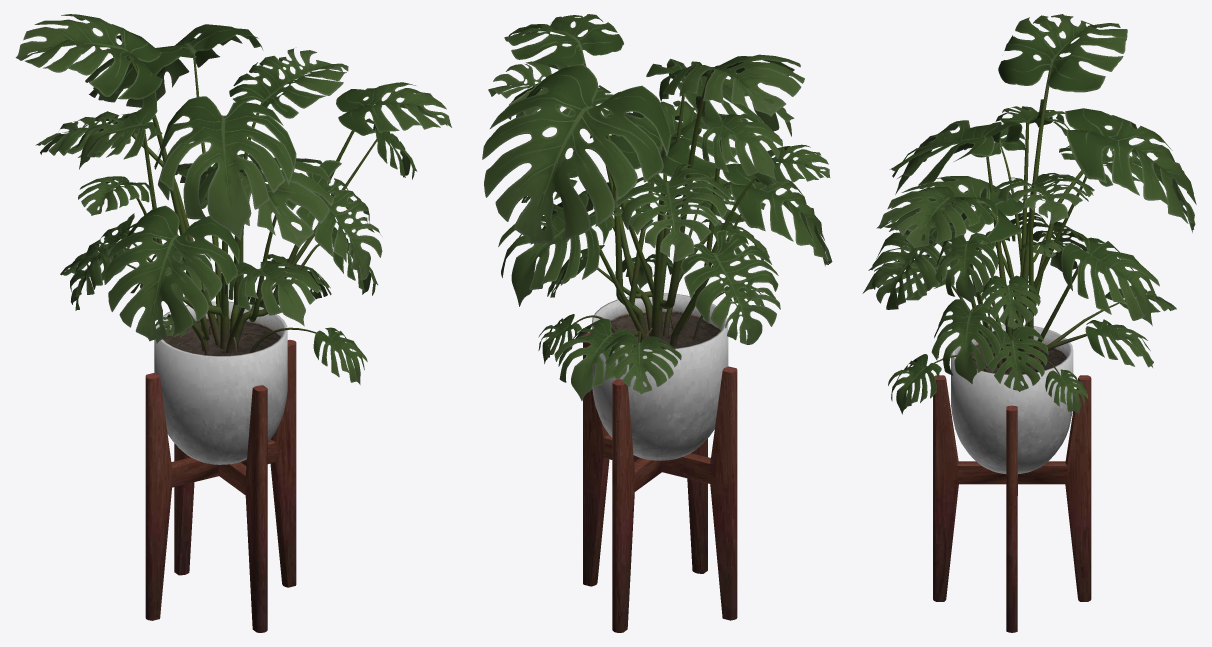
File: plantcompressed.glb
The picture shows the model from 3 angles, left to right: view 1: azimuth 30°, elevation 25°; view 2: azimuth 150°, elevation 25°; view 3: azimuth 270°, elevation 25°; orthographic projection. The views are drawn at different scales.
Visible parts, largest first — view 1: Leaves, Stand, Pot_LP, root_HP_1_Mat.2_0; view 2: Leaves, Stand, Pot_LP, root_HP_1_Mat.2_0; view 3: Leaves, Stand, Pot_LP, root_HP_1_Mat.2_0.
Boxes of the visible parts, left/top/right/bottom form: Leaves: left=15, top=14, right=451, bottom=384; Stand: left=145, top=339, right=296, bottom=632; Pot_LP: left=154, top=301, right=287, bottom=464; root_HP_1_Mat.2_0: left=124, top=53, right=376, bottom=355; Leaves: left=482, top=14, right=832, bottom=400; Stand: left=583, top=332, right=737, bottom=632; Pot_LP: left=592, top=293, right=728, bottom=460; root_HP_1_Mat.2_0: left=559, top=50, right=755, bottom=346; Leaves: left=862, top=14, right=1196, bottom=414; Stand: left=933, top=375, right=1091, bottom=632; Pot_LP: left=951, top=324, right=1073, bottom=473; root_HP_1_Mat.2_0: left=933, top=68, right=1124, bottom=375.
Size of the model in its own units: 0.8695 by 1.36 by 0.7911.
3 materials, 3 textured.
